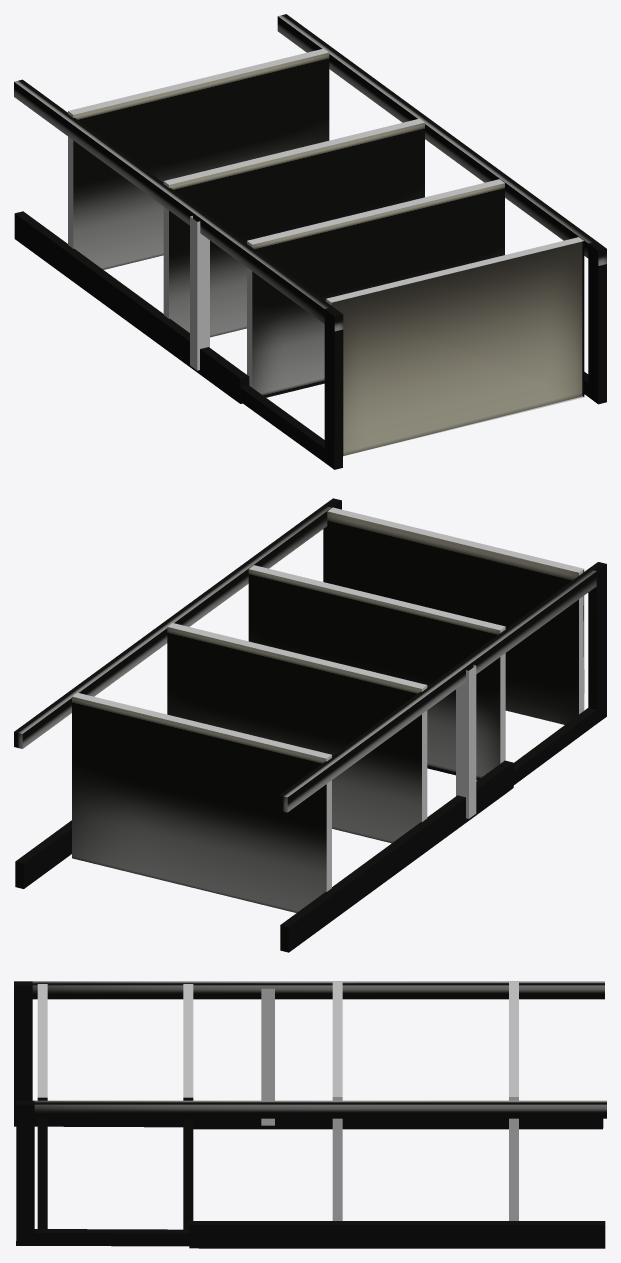
Rendered from shelvesthin150_wtf.obj.
3 views of the same model, one above another, from view 1: azimuth 30°, elevation 25°; view 2: azimuth 150°, elevation 25°; view 3: azimuth 270°, elevation 25° (orthographic). The views are drawn at different scales.
Parts seen in each view (by area): view 1: group4, group6, group2, group3, group10, group9; view 2: group4, group6, group2, group3, group10, group9; view 3: group2, group6, group3, group10, group8, group7.
Part boxes in pixels (left/top/right/bottom): group4: left=73, top=52, right=582, bottom=455; group6: left=14, top=79, right=343, bottom=469; group2: left=277, top=14, right=606, bottom=404; group3: left=68, top=48, right=583, bottom=452; group10: left=68, top=111, right=209, bottom=370; group9: left=247, top=241, right=331, bottom=387; group4: left=72, top=511, right=584, bottom=912; group6: left=279, top=562, right=606, bottom=952; group2: left=14, top=498, right=341, bottom=888; group3: left=72, top=507, right=583, bottom=758; group10: left=326, top=665, right=476, bottom=891; group9: left=500, top=569, right=584, bottom=763; group2: left=16, top=1100, right=606, bottom=1248; group6: left=14, top=981, right=604, bottom=1129; group3: left=37, top=982, right=518, bottom=1097; group10: left=261, top=988, right=518, bottom=1220; group8: left=37, top=1097, right=47, bottom=1228; group7: left=183, top=1097, right=193, bottom=1229.
Bounding box in the file's own units: 328 × 184 × 660.
